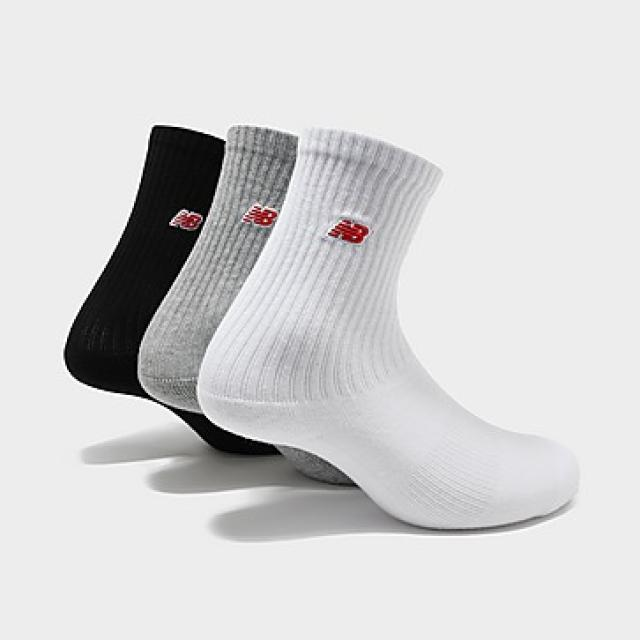sock: (194, 123, 580, 531), (136, 122, 298, 455), (62, 123, 225, 404)
